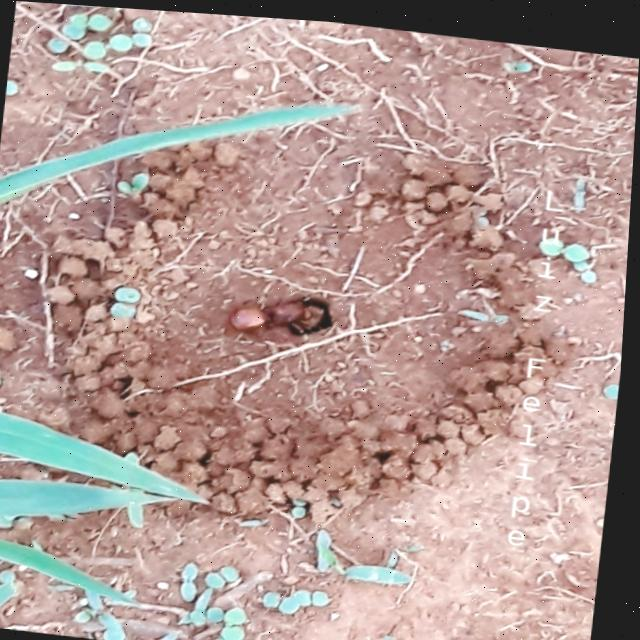Alive-Female-Dealate: (233, 286, 329, 337)
